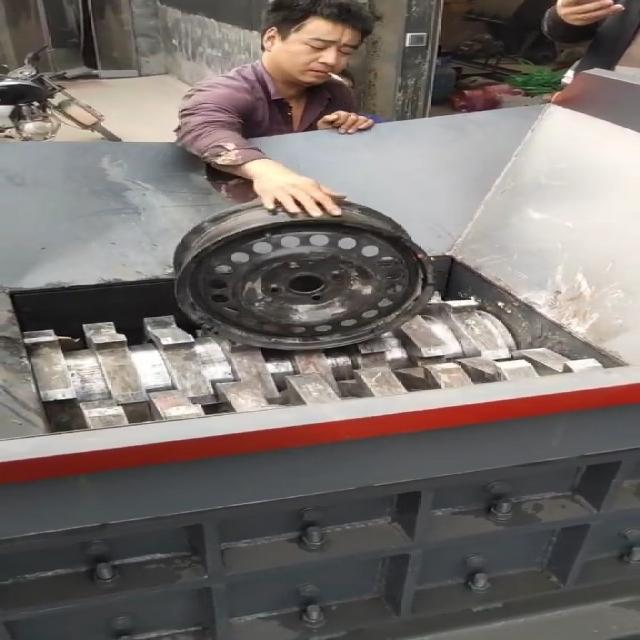Broyeur: (0, 251, 638, 467)
